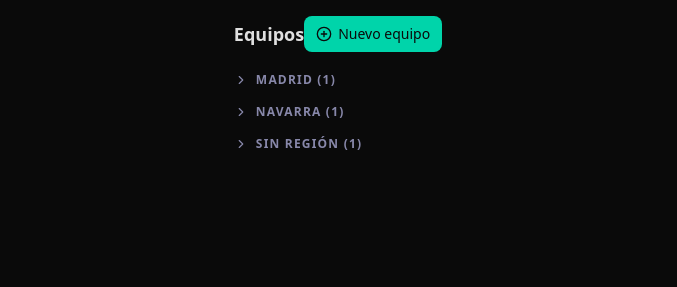
AdminEquiposPage › expands region on click and collapses on second click
Expected: the text "Dominicos Alevín" is not shown
Click the button "Madrid (1)". click: (338, 80)
box: 234,68 -> 442,92
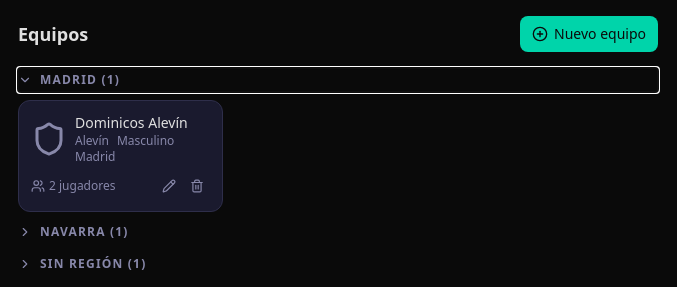
Result: the text "Dominicos Alevín" is shown at 75,113 -> 188,132
Click the button "Madrid (1)". click: (69, 80)
box: 18,68 -> 658,92
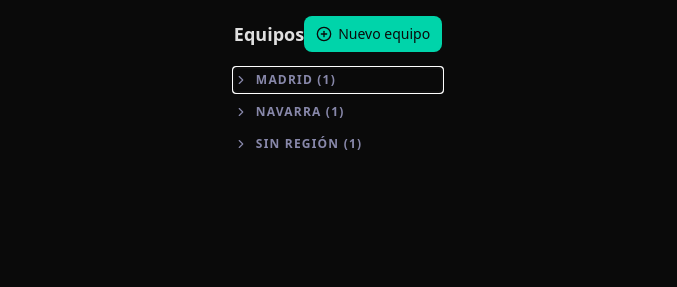
Result: the link "Dominicos Alevín" is gone
